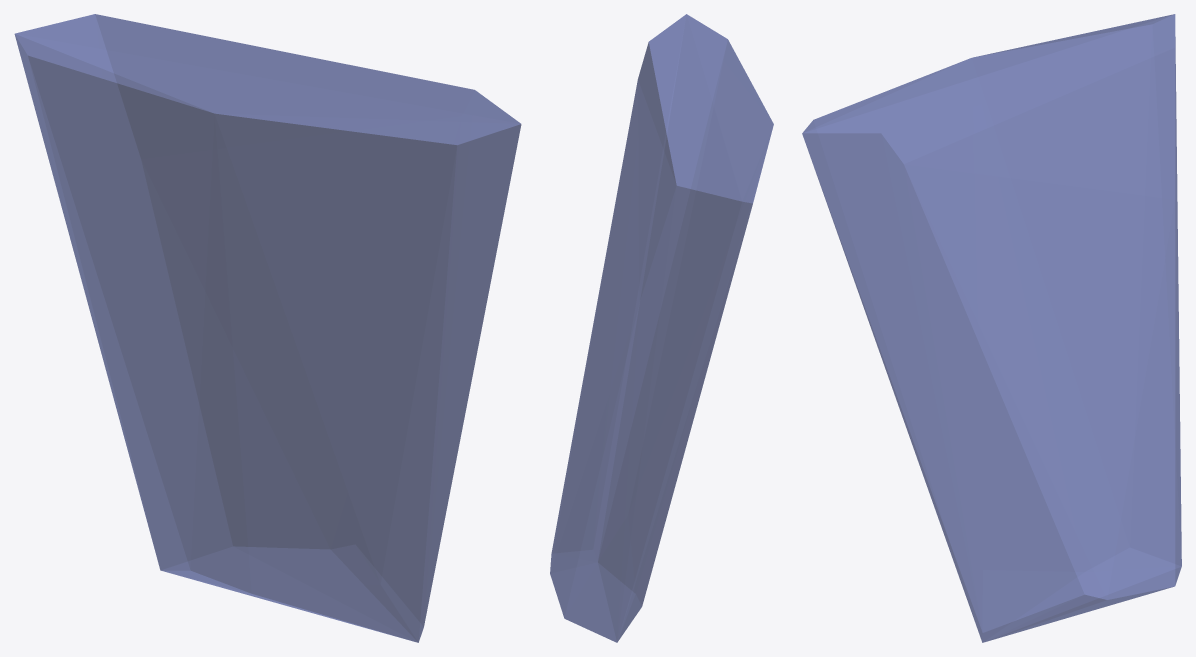
3 views of the same model, side by side, from view 1: azimuth 30°, elevation 25°; view 2: azimuth 150°, elevation 25°; view 3: azimuth 270°, elevation 25° (orthographic). The views are drawn at different scales.
Visible parts, largest first — view 1: Shape_IndexedFaceSet.025_Shape_IndexedFaceSet.9546; view 2: Shape_IndexedFaceSet.025_Shape_IndexedFaceSet.9546; view 3: Shape_IndexedFaceSet.025_Shape_IndexedFaceSet.9546.
Part boxes in pixels (x1,y1,x2,y2): Shape_IndexedFaceSet.025_Shape_IndexedFaceSet.9546: (14,14,521,642); Shape_IndexedFaceSet.025_Shape_IndexedFaceSet.9546: (550,14,773,642); Shape_IndexedFaceSet.025_Shape_IndexedFaceSet.9546: (802,14,1181,642).
Bounding box in the file's own units: 0.1697 × 0.3268 × 0.2213.
